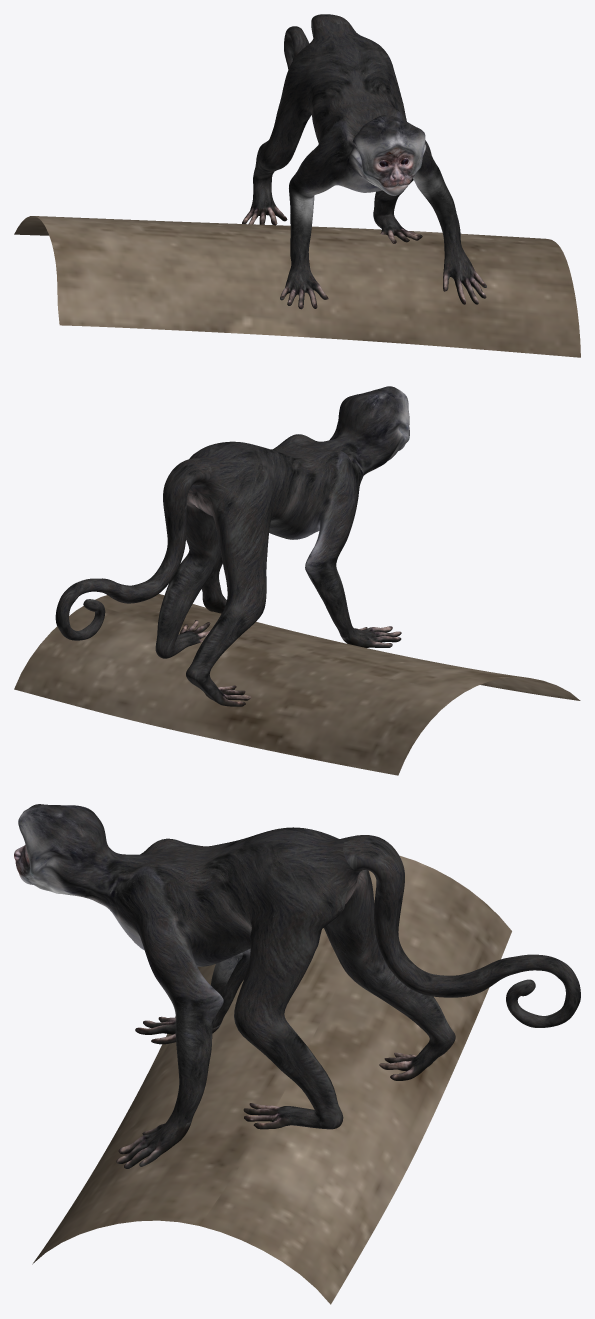
File: MonoCaraBlanca_01.glb
3 renders of one model, top to bottom at view 1: azimuth 30°, elevation 25°; view 2: azimuth 150°, elevation 25°; view 3: azimuth 270°, elevation 25°, orthographic. The views are drawn at different scales.
Parts seen in each view (by area): view 1: MonoCaraBlanca; view 2: MonoCaraBlanca; view 3: MonoCaraBlanca.
Part boxes in pixels (x1=…): MonoCaraBlanca: x1=14, y1=14, x2=580, y2=357; MonoCaraBlanca: x1=14, y1=386, x2=580, y2=775; MonoCaraBlanca: x1=14, y1=804, x2=580, y2=1304.
Size of the model in its own units: 3.88 by 2 by 2.94.
2 materials, 2 textured.
